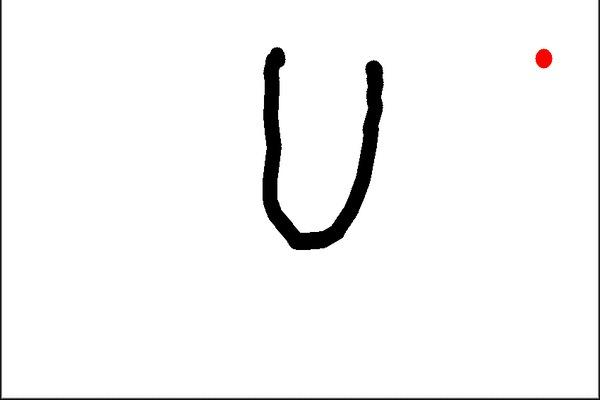U: (241, 29, 395, 263)
